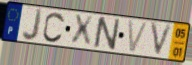C: (41, 11, 66, 45)
J: (21, 8, 44, 43)
N: (92, 16, 122, 52)
V: (149, 21, 175, 60), (126, 19, 150, 54)
X: (70, 13, 95, 47)
